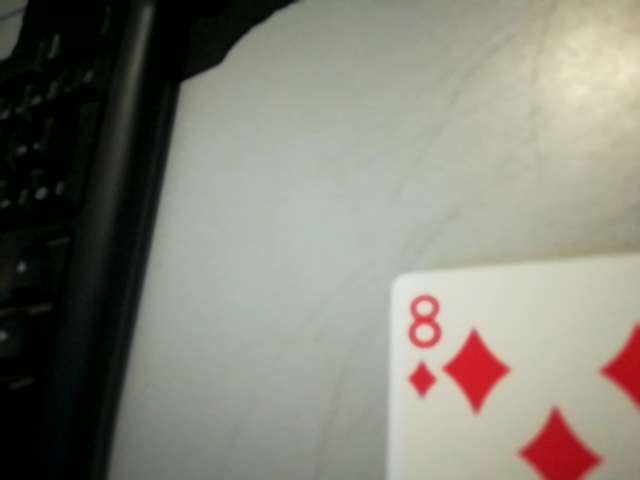fk 8: (390, 285, 454, 410)
